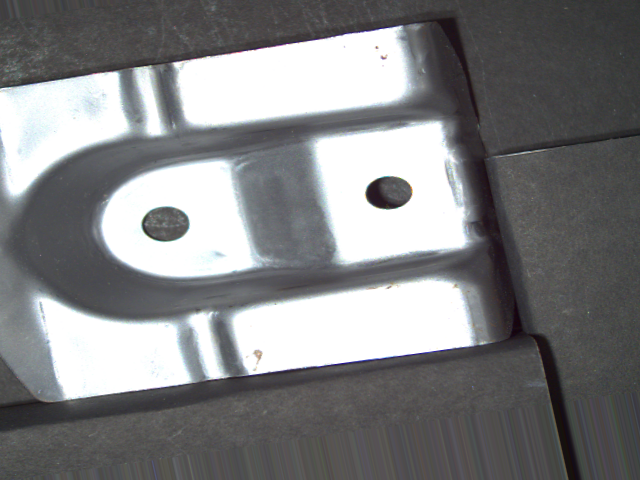defect: (137, 204, 196, 246)
